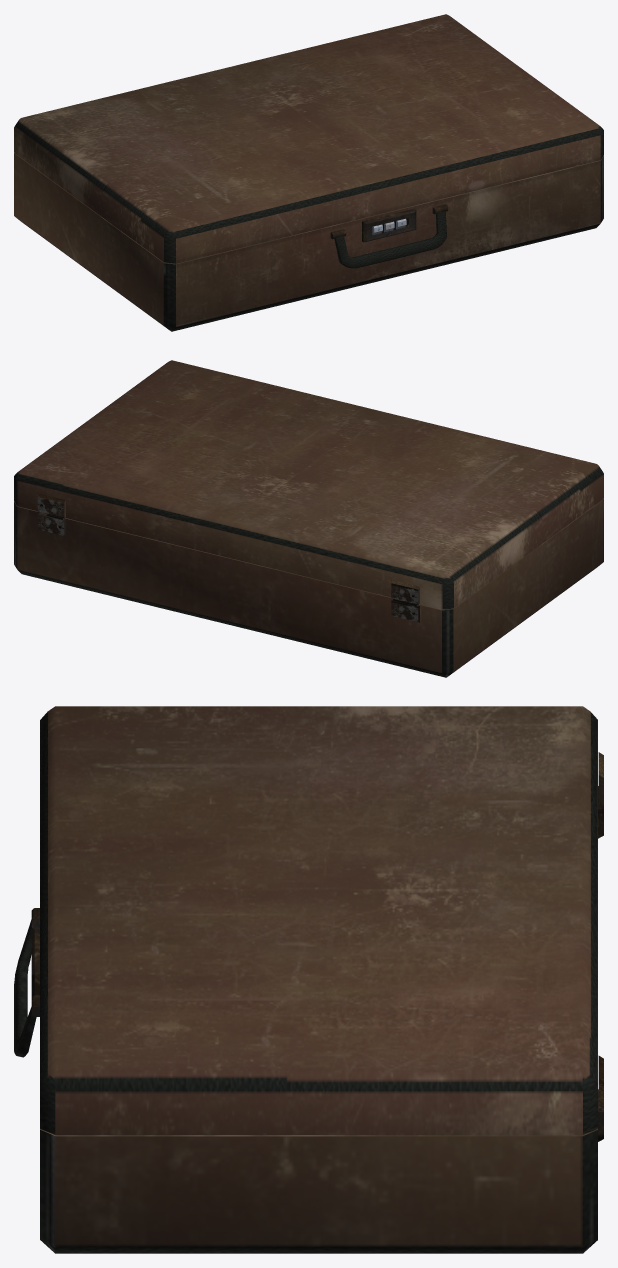
The model's file is suitcase_packed.fbx.
The picture shows the model from 3 angles, top to bottom: view 1: azimuth 30°, elevation 25°; view 2: azimuth 150°, elevation 25°; view 3: azimuth 270°, elevation 25°; orthographic projection. The views are drawn at different scales.
Visible parts, largest first — view 1: top.001, bottom.001; view 2: top.001, bottom.001; view 3: top.001, bottom.001.
Part boxes in pixels (x1,y1,x2,y2): top.001: [14, 14, 603, 263]; bottom.001: [14, 153, 603, 331]; top.001: [14, 360, 603, 609]; bottom.001: [14, 499, 603, 677]; top.001: [40, 706, 603, 1135]; bottom.001: [14, 786, 603, 1253].
Bounding box in the file's own units: 0.8 × 0.181 × 0.5287.
